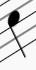HC: (5, 1, 30, 59)
